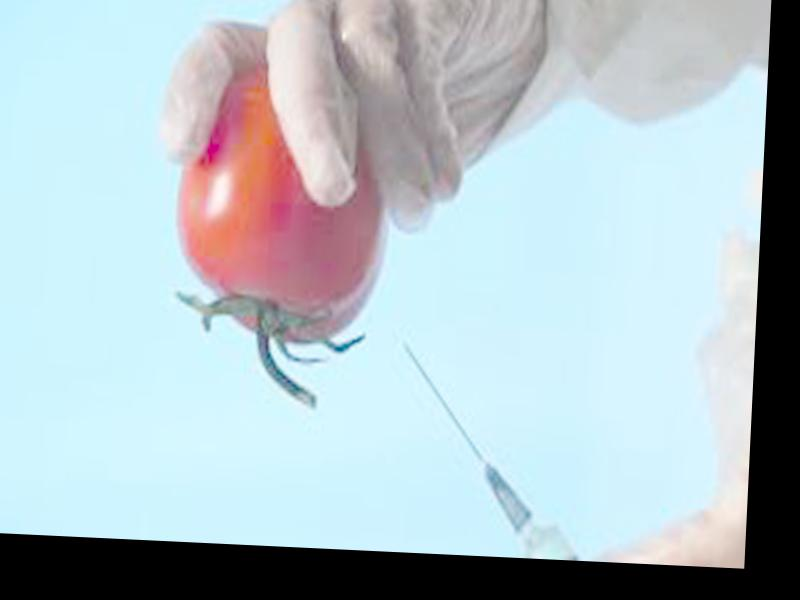Tomato: (170, 62, 391, 346)
